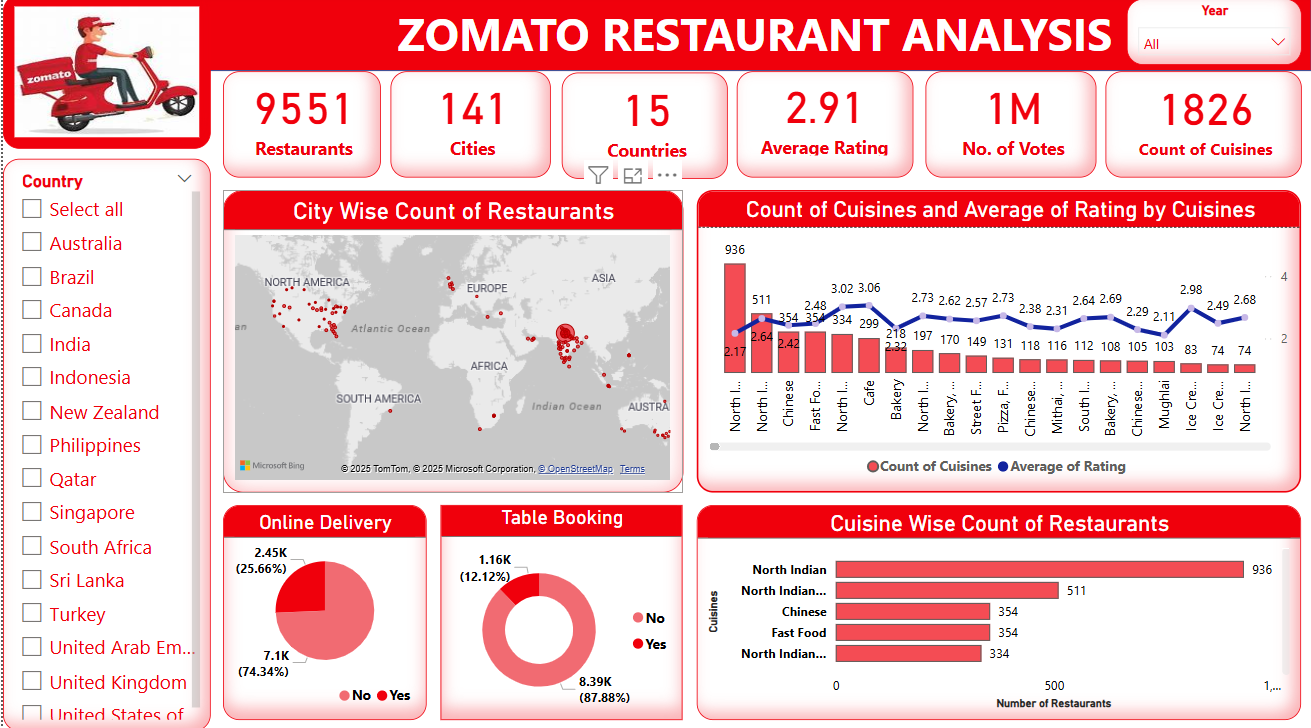

What the dashboard file says about the page in this screenshot:
{"tool":"powerbi","page":{"name":"Page 1","canvas":[1280,720],"ordinal":0},"visuals":[{"type":"shape","box":[190.8,0,1089.5,74.6],"z":0},{"type":"image","box":[0,0,203.4,150],"z":1000},{"type":"card","title":"Number of Restaurants","fields":{"Values":["CountNonNull(resturants.RestaurantID)"]},"box":[215.2,74.6,154.1,103.9],"z":2000},{"type":"card","title":"Number of Restaurants","fields":{"Values":["Count(resturants.City)"]},"box":[379.1,74.6,156.5,103.9],"z":3000},{"type":"card","title":"Number of Restaurants","fields":{"Values":["Count(resturants.CountryCode)"]},"box":[546.6,75.8,162.6,103.9],"z":4000},{"type":"card","title":"Number of Restaurants","fields":{"Values":["Avg(resturants.Rating)"]},"box":[717.8,74.6,172.4,103.9],"z":5000},{"type":"card","title":"Number of Restaurants","fields":{"Values":["Sum(resturants.Votes)"]},"box":[902.5,74.6,167.5,103.9],"z":6000},{"type":"card","title":"Number of Restaurants","fields":{"Values":["Count(resturants.Cuisines)"]},"box":[1078.5,74.6,192,103.9],"z":7000},{"type":"slicer","fields":{"Values":["country.country name"]},"box":[0,160.1,203.4,559.8],"z":8000},{"type":"lineStackedColumnComboChart","fields":{"Category":["resturants.Cuisines"],"Y":["CountNonNull(resturants.Cuisines)"],"Y2":["Avg(resturants.Rating)"]},"box":[678.1,190.4,591.5,295.8],"z":9000},{"type":"map","title":"City Wise Count of Restaurants","fields":{"Size":["CountNonNull(resturants.RestaurantID)"],"Category":["resturants.City"]},"box":[215,190.4,450.1,295.8],"z":10000},{"type":"clusteredBarChart","title":"Cuisine Wise Count of Restaurants","fields":{"Category":["resturants.Cuisines"],"Y":["CountNonNull(resturants.RestaurantID)"]},"box":[678.1,499.2,591.5,210.6],"z":11000},{"type":"pieChart","title":"Online Delivery","fields":{"Category":["resturants.Has_Online_delivery"],"Y":["CountNonNull(resturants.RestaurantID)"]},"box":[215,499.2,199.1,210.6],"z":12000},{"type":"donutChart","title":"Table Booking","fields":{"Category":["resturants.Has_Table_booking"],"Y":["CountNonNull(resturants.RestaurantID)"]},"box":[428.5,499.2,236.6,210.6],"z":13000},{"type":"slicer","title":"Year","fields":{"Values":["resturants.Datekey_Opening.Variation.Date Hierarchy.Year"]},"box":[1099.3,3.7,171.2,64.8],"z":14000}]}

Visuals, with their boxes in screenshot pixels (x1, y1, x2, y2), scaled from the page's 1280x720 canvas onto the 1311x728 screenshot:
shape: crop(195, 0, 1310, 75)
image: crop(0, 0, 208, 152)
"Number of Restaurants" card: crop(220, 75, 378, 180)
"Number of Restaurants" card: crop(388, 75, 549, 180)
"Number of Restaurants" card: crop(560, 77, 726, 182)
"Number of Restaurants" card: crop(735, 75, 912, 180)
"Number of Restaurants" card: crop(924, 75, 1096, 180)
"Number of Restaurants" card: crop(1105, 75, 1301, 180)
slicer - country.country name: crop(0, 162, 208, 727)
lineStackedColumnComboChart - resturants.Cuisines x CountNonNull(resturants.Cuisines): crop(695, 193, 1300, 492)
"City Wise Count of Restaurants" map: crop(220, 193, 681, 492)
"Cuisine Wise Count of Restaurants" clusteredBarChart: crop(695, 505, 1300, 718)
"Online Delivery" pieChart: crop(220, 505, 424, 718)
"Table Booking" donutChart: crop(439, 505, 681, 718)
"Year" slicer: crop(1126, 4, 1301, 69)
